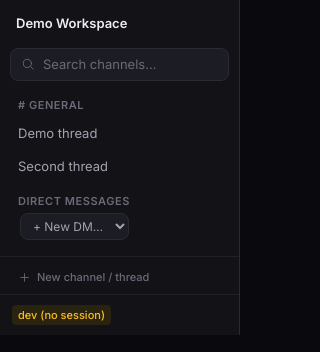
Scenario: Sidebar › filters threads by the channel search box
In the field with placeholder "Search channels…": (130, 64) x1=43 y1=54 x2=218 y2=74, type "Second"
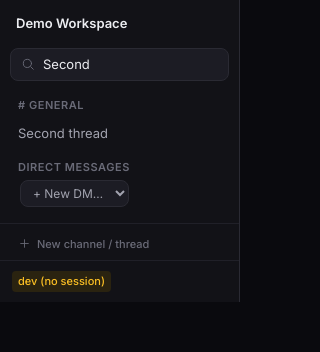
Check: the text "Second thread" is shown, box x1=18 y1=124 x2=108 y2=143
Check: the button "Demo thread" is gone
